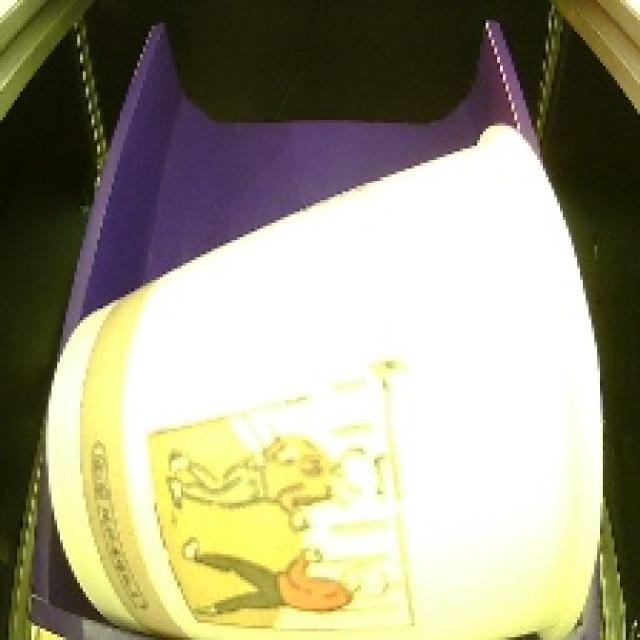cups: (36, 112, 614, 640)
